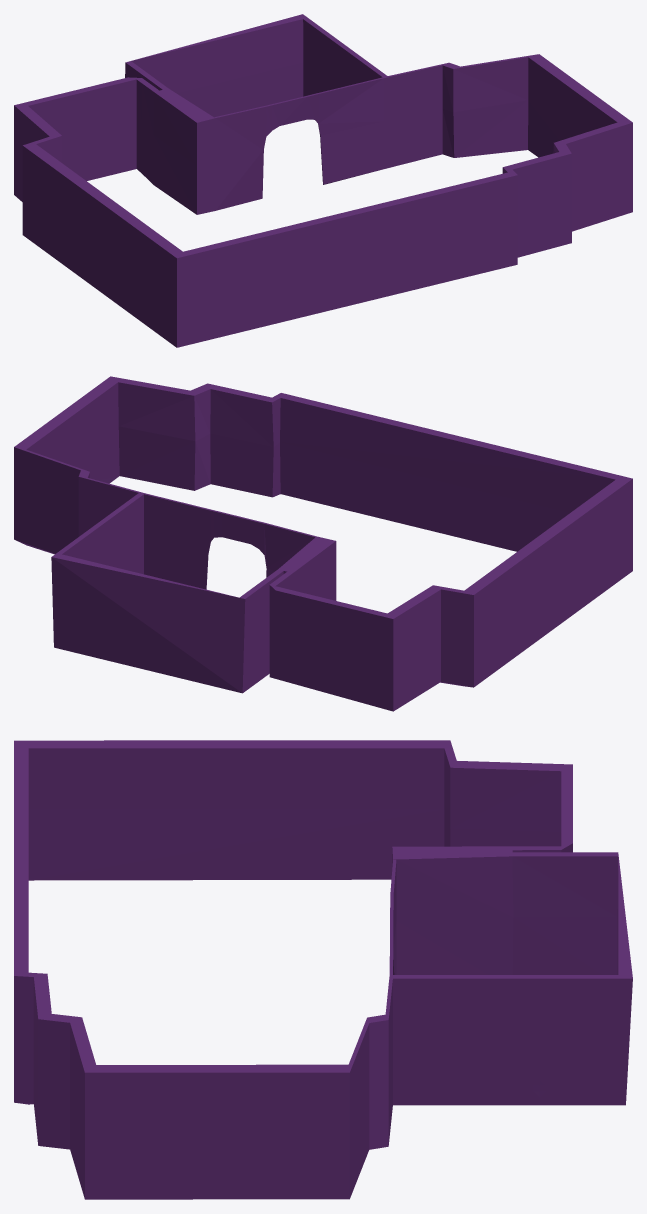
Rendered from Wizard_Hub_Walls.fbx.
The picture shows the model from 3 angles, top to bottom: view 1: azimuth 30°, elevation 25°; view 2: azimuth 150°, elevation 25°; view 3: azimuth 270°, elevation 25°; orthographic projection. The views are drawn at different scales.
Parts seen in each view (by area): view 1: Walls; view 2: Walls; view 3: Walls.
Part boxes in pixels (left/top/right/bottom): Walls: left=14, top=14, right=632, bottom=347; Walls: left=14, top=376, right=632, bottom=711; Walls: left=14, top=740, right=632, bottom=1199.
Bounding box in the file's own units: 5181 × 960 × 4079.
